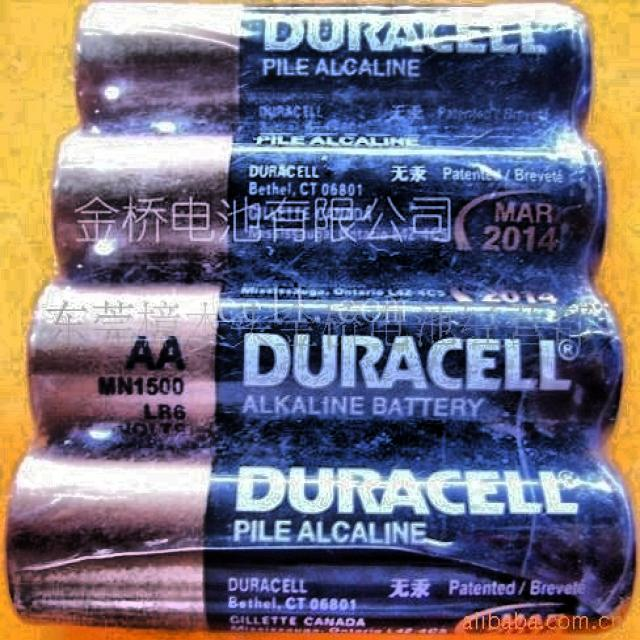Non-Valuable Waste - Batteries: (9, 5, 635, 629)
